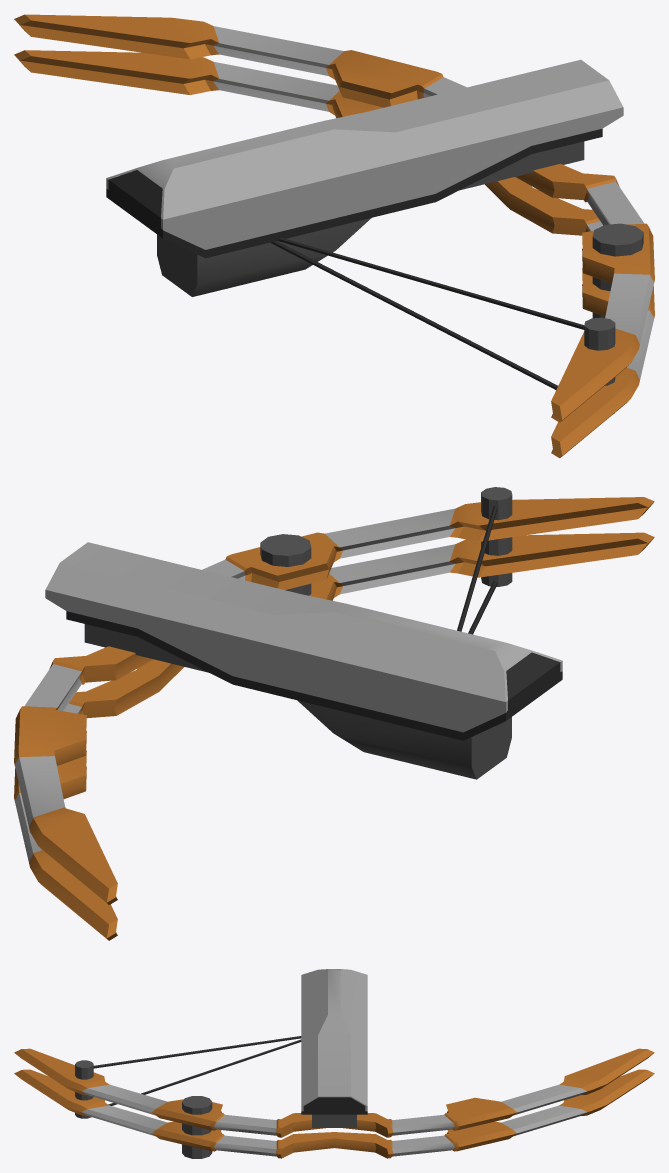
The model's file is quaternius-modular-sci-fi-guns-body-crossbow-1.glb.
The picture shows the model from 3 angles, top to bottom: view 1: azimuth 30°, elevation 25°; view 2: azimuth 150°, elevation 25°; view 3: azimuth 270°, elevation 25°; orthographic projection. The views are drawn at different scales.
Parts seen in each view (by area): view 1: Body_Crossbow_1; view 2: Body_Crossbow_1; view 3: Body_Crossbow_1.
Boxes of the visible parts, x1=… form: Body_Crossbow_1: x1=14, y1=14, x2=654, y2=458; Body_Crossbow_1: x1=14, y1=487, x2=654, y2=940; Body_Crossbow_1: x1=14, y1=969, x2=654, y2=1158.
Size of the model in its own units: 0.9312 by 0.294 by 1.92.
